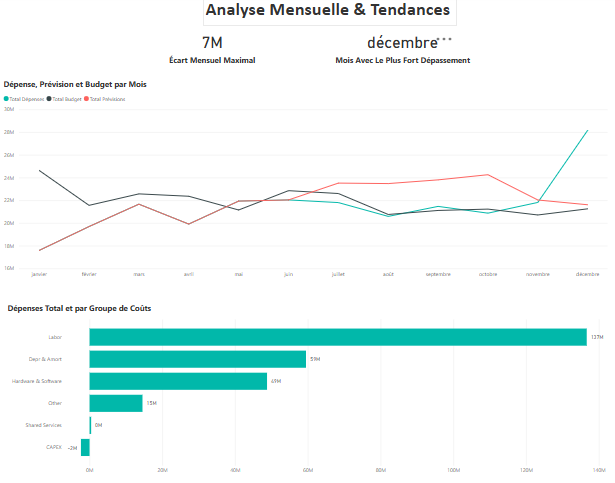

What the dashboard file says about the page in this screenshot:
{"tool":"powerbi","page":{"name":"Tendances","canvas":[1280,1000],"ordinal":1},"visuals":[{"type":"textbox","box":[421.8,0,516.4,62.7],"z":0},{"type":"lineChart","title":"Dépense, Prévision et Budget par Mois","fields":{"Category":["ActualForcastBudget.Date.Variation.Hiérarchie de dates.Mois"],"Y":["ActualForcastBudget.Total Dépenses","ActualForcastBudget.Total Budget","ActualForcastBudget.Total Prévisions"]},"box":[11.2,171.6,1237.6,414.2],"z":1000},{"type":"card","fields":{"Values":["ActualForcastBudget.Écart Mensuel Maximal"]},"box":[322.7,62.7,236.4,83.6],"z":2000},{"type":"barChart","title":"Dépenses Total et par Groupe de Coûts","fields":{"Category":["CostElements.Cost Element Group"],"Y":["ActualForcastBudget.Total Dépenses"]},"box":[21.1,626.9,1237.6,358.2],"z":3000},{"type":"card","fields":{"Values":["ActualForcastBudget.MoisAvecLePlusFortDépassement"]},"box":[680,62.7,295.5,83.6],"z":5000}]}

Visuals, with their boxes in screenshot pixels (x1, y1, x2, y2), scaled from the page's 1280x1000 canvas onto the 615x483 screenshot:
textbox: [203, 0, 451, 30]
"Dépense, Prévision et Budget par Mois" lineChart: [5, 83, 600, 283]
card - ActualForcastBudget.Écart Mensuel Maximal: [155, 30, 269, 71]
"Dépenses Total et par Groupe de Coûts" barChart: [10, 303, 605, 476]
card - ActualForcastBudget.MoisAvecLePlusFortDépassement: [327, 30, 469, 71]
